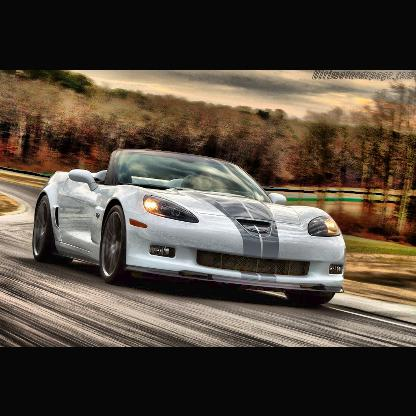Chevrolet Corvette Convertible 2012: (34, 150, 346, 309)
